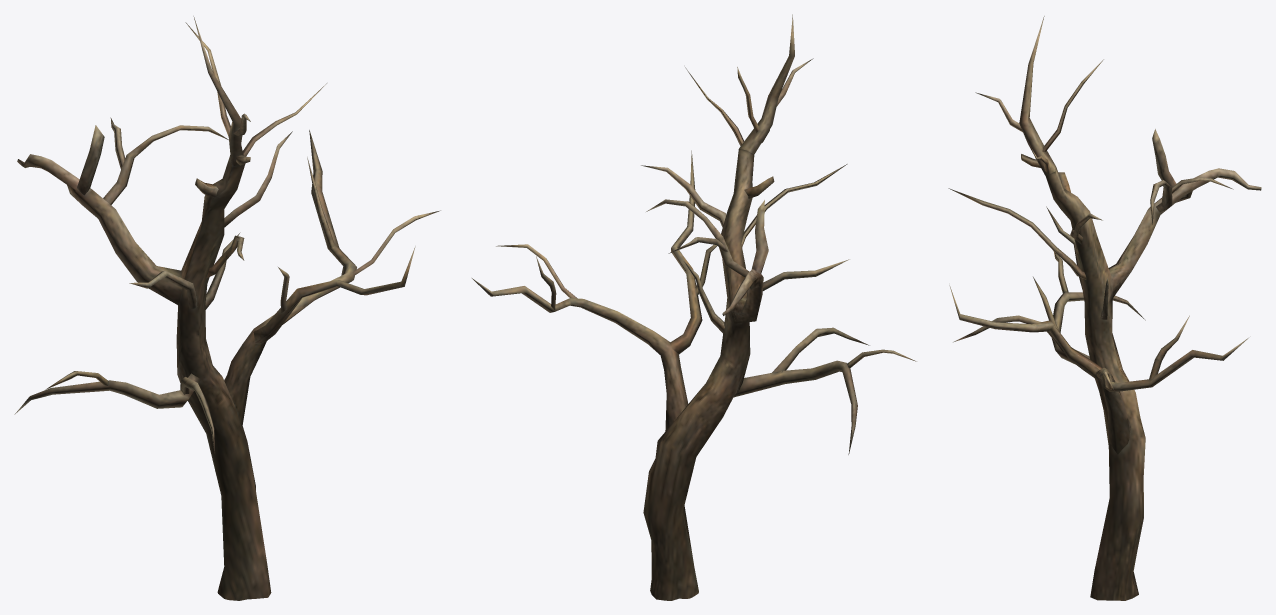
The model's file is kushu.FBX.
The picture shows the model from 3 angles, left to right: view 1: azimuth 30°, elevation 25°; view 2: azimuth 150°, elevation 25°; view 3: azimuth 270°, elevation 25°; orthographic projection. The views are drawn at different scales.
Parts seen in each view (by area): view 1: Object001; view 2: Object001; view 3: Object001.
Boxes of the visible parts, x1,y1,x2,y2 form: Object001: (14, 16, 440, 600); Object001: (472, 14, 916, 600); Object001: (948, 16, 1261, 600).
Bounding box in the file's own units: 846 × 1173 × 619.
Materials: 1 (1 with a texture image).
